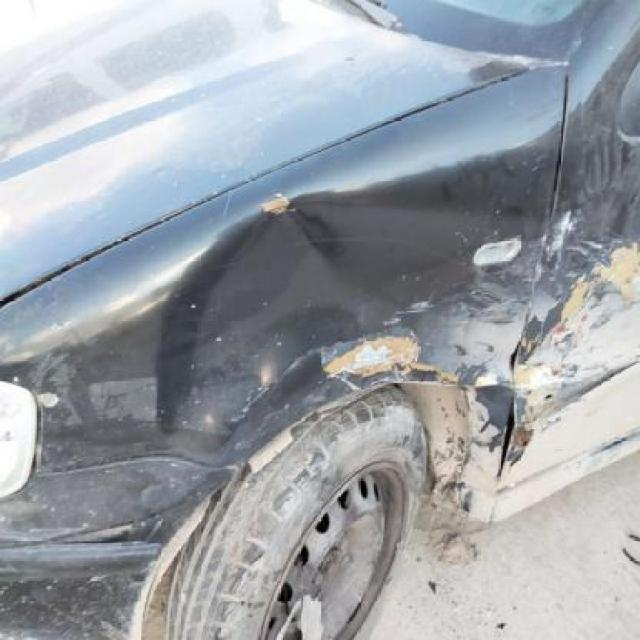car damage: (153, 189, 398, 457), (510, 179, 640, 388), (50, 271, 184, 449), (363, 253, 531, 383), (585, 20, 640, 150), (332, 334, 428, 382), (469, 49, 575, 84), (588, 110, 637, 185), (543, 200, 573, 268), (470, 232, 522, 268), (481, 384, 513, 436), (442, 478, 469, 518)
